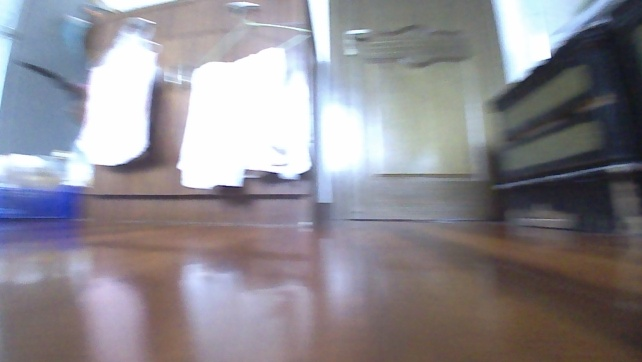door_anno: (326, 0, 523, 225)
